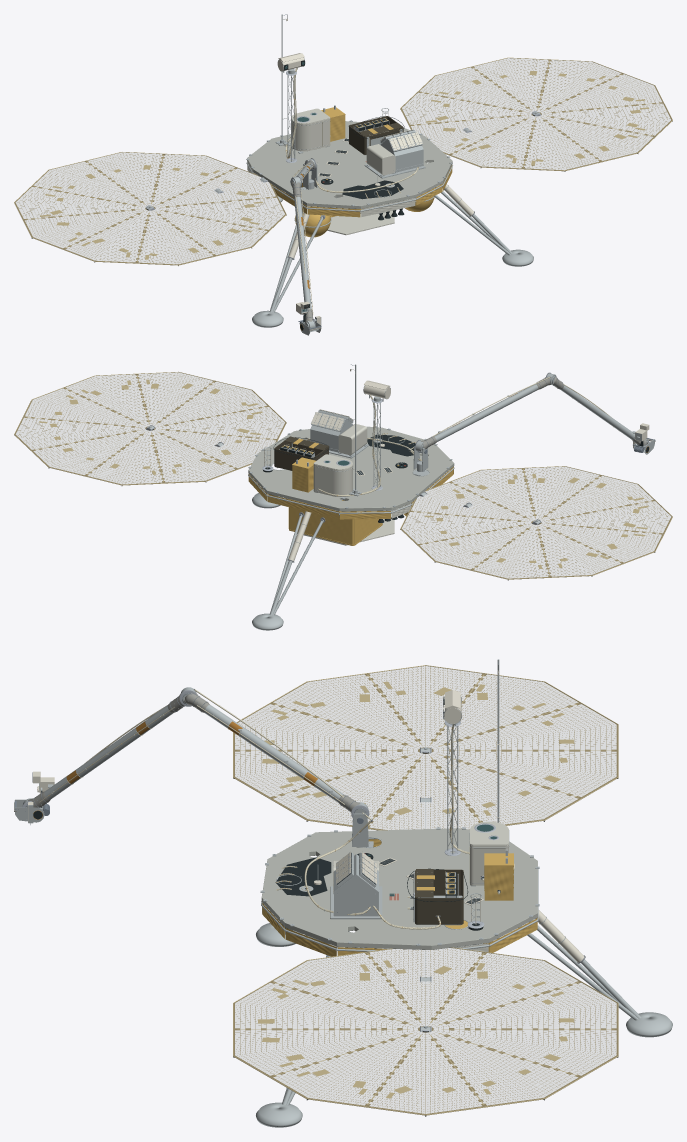
The model's file is phoenix-exterior.glb.
3 views of the same model, one above another, from view 1: azimuth 30°, elevation 25°; view 2: azimuth 150°, elevation 25°; view 3: azimuth 270°, elevation 25° (orthographic). The views are drawn at different scales.
Parts seen in each view (by area): view 1: PHOENIX_SOLAR_LEFT_EXTERIOR_Phoenix_UltraFlex_photovoltaic_c, PHOENIX_SOLAR_EXTERIOR_Phoenix_UltraFlex_photovoltaic_cells, PHOENIX_DECK_Phoenix_satin_deck_aluminium, PHOENIX_SOLAR_LEFT_EXTERIOR_Phoenix_UltraFlex_Vectran_fabric, PHOENIX_SOLAR_EXTERIOR_Phoenix_UltraFlex_Vectran_fabric, PHOENIX_SOLAR_LEFT_EXTERIOR_Phoenix_UltraFlex_pale_edge_bind, PHOENIX_SOLAR_EXTERIOR_Phoenix_UltraFlex_pale_edge_binding, PHOENIX_LEGS_EXTERIOR_Phoenix_machined_aluminium (×2), PHOENIX_ARM_EXTERIOR_Phoenix_machined_aluminium (×2), PHOENIX_MET_EXTERIOR_Phoenix_silver_multilayer_thermal_blank, PHOENIX_DECK_Phoenix_machined_aluminium, PHOENIX_TEGA_EXTERIOR_Phoenix_machined_aluminium (+8 smaller); view 2: PHOENIX_SOLAR_LEFT_EXTERIOR_Phoenix_UltraFlex_photovoltaic_c, PHOENIX_SOLAR_EXTERIOR_Phoenix_UltraFlex_photovoltaic_cells, PHOENIX_DECK_Phoenix_satin_deck_aluminium, PHOENIX_SOLAR_EXTERIOR_Phoenix_UltraFlex_Vectran_fabric, PHOENIX_SOLAR_LEFT_EXTERIOR_Phoenix_UltraFlex_Vectran_fabric, PHOENIX_SOLAR_LEFT_EXTERIOR_Phoenix_UltraFlex_pale_edge_bind, PHOENIX_AVIONICS_EXTERIOR_Phoenix_gold_multilayer_thermal_bl, PHOENIX_SOLAR_EXTERIOR_Phoenix_UltraFlex_pale_edge_binding, PHOENIX_ARM_EXTERIOR_Phoenix_machined_aluminium (×2), PHOENIX_LEGS_EXTERIOR_Phoenix_machined_aluminium (×2), PHOENIX_MET_EXTERIOR_Phoenix_silver_multilayer_thermal_blank, PHOENIX_DECK_Phoenix_machined_aluminium (+7 smaller); view 3: PHOENIX_SOLAR_EXTERIOR_Phoenix_UltraFlex_photovoltaic_cells, PHOENIX_SOLAR_LEFT_EXTERIOR_Phoenix_UltraFlex_photovoltaic_c, PHOENIX_DECK_Phoenix_satin_deck_aluminium, PHOENIX_SOLAR_EXTERIOR_Phoenix_UltraFlex_Vectran_fabric, PHOENIX_SOLAR_LEFT_EXTERIOR_Phoenix_UltraFlex_Vectran_fabric, PHOENIX_SOLAR_EXTERIOR_Phoenix_UltraFlex_pale_edge_binding, PHOENIX_SOLAR_LEFT_EXTERIOR_Phoenix_UltraFlex_pale_edge_bind, PHOENIX_LEGS_EXTERIOR_Phoenix_machined_aluminium (×2), PHOENIX_ARM_EXTERIOR_Phoenix_machined_aluminium (×2), PHOENIX_TEGA_EXTERIOR_Phoenix_machined_aluminium, PHOENIX_DECK_Phoenix_machined_aluminium, PHOENIX_MECA_EXTERIOR_Phoenix_MECA_anodized_housing (+6 smaller).
Boxes of the visible parts, x1,y1,x2,y2 form: PHOENIX_SOLAR_LEFT_EXTERIOR_Phoenix_UltraFlex_photovoltaic_c: (15,152,284,264); PHOENIX_SOLAR_EXTERIOR_Phoenix_UltraFlex_photovoltaic_cells: (402,58,670,170); PHOENIX_DECK_Phoenix_satin_deck_aluminium: (247,121,452,208); PHOENIX_SOLAR_LEFT_EXTERIOR_Phoenix_UltraFlex_Vectran_fabric: (14,153,285,264); PHOENIX_SOLAR_EXTERIOR_Phoenix_UltraFlex_Vectran_fabric: (401,59,672,170); PHOENIX_SOLAR_LEFT_EXTERIOR_Phoenix_UltraFlex_pale_edge_bind: (14,152,286,265); PHOENIX_SOLAR_EXTERIOR_Phoenix_UltraFlex_pale_edge_binding: (400,57,672,171); PHOENIX_LEGS_EXTERIOR_Phoenix_machined_aluminium (×2): (252,185,533,327); PHOENIX_ARM_EXTERIOR_Phoenix_machined_aluminium (×2): (290,159,321,335); PHOENIX_MET_EXTERIOR_Phoenix_silver_multilayer_thermal_blank: (291,108,330,151); PHOENIX_DECK_Phoenix_machined_aluminium: (146,74,538,213); PHOENIX_TEGA_EXTERIOR_Phoenix_machined_aluminium: (364,130,425,178); PHOENIX_SOLAR_LEFT_EXTERIOR_Phoenix_UltraFlex_photovoltaic_c: (402,466,671,578); PHOENIX_SOLAR_EXTERIOR_Phoenix_UltraFlex_photovoltaic_cells: (15,372,284,484); PHOENIX_DECK_Phoenix_satin_deck_aluminium: (248,426,454,511); PHOENIX_SOLAR_EXTERIOR_Phoenix_UltraFlex_Vectran_fabric: (14,373,285,484); PHOENIX_SOLAR_LEFT_EXTERIOR_Phoenix_UltraFlex_Vectran_fabric: (401,467,671,579); PHOENIX_SOLAR_LEFT_EXTERIOR_Phoenix_UltraFlex_pale_edge_bind: (400,466,672,579); PHOENIX_AVIONICS_EXTERIOR_Phoenix_gold_multilayer_thermal_bl: (288,457,382,545); PHOENIX_SOLAR_EXTERIOR_Phoenix_UltraFlex_pale_edge_binding: (14,371,286,485); PHOENIX_ARM_EXTERIOR_Phoenix_machined_aluminium (×2): (413,373,654,475); PHOENIX_LEGS_EXTERIOR_Phoenix_machined_aluminium (×2): (252,493,323,630); PHOENIX_MET_EXTERIOR_Phoenix_silver_multilayer_thermal_blank: (313,454,352,496); PHOENIX_DECK_Phoenix_machined_aluminium: (148,401,540,523); PHOENIX_SOLAR_EXTERIOR_Phoenix_UltraFlex_photovoltaic_cells: (235,948,616,1113); PHOENIX_SOLAR_LEFT_EXTERIOR_Phoenix_UltraFlex_photovoltaic_c: (235,666,616,830); PHOENIX_DECK_Phoenix_satin_deck_aluminium: (261,828,537,949); PHOENIX_SOLAR_EXTERIOR_Phoenix_UltraFlex_Vectran_fabric: (233,948,617,1114); PHOENIX_SOLAR_LEFT_EXTERIOR_Phoenix_UltraFlex_Vectran_fabric: (233,666,617,830); PHOENIX_SOLAR_EXTERIOR_Phoenix_UltraFlex_pale_edge_binding: (233,947,618,1115); PHOENIX_SOLAR_LEFT_EXTERIOR_Phoenix_UltraFlex_pale_edge_bind: (233,665,618,830); PHOENIX_LEGS_EXTERIOR_Phoenix_machined_aluminium (×2): (256,917,672,1127); PHOENIX_ARM_EXTERIOR_Phoenix_machined_aluminium (×2): (15,687,373,847); PHOENIX_TEGA_EXTERIOR_Phoenix_machined_aluminium: (330,852,382,919); PHOENIX_DECK_Phoenix_machined_aluminium: (260,724,539,1031); PHOENIX_MECA_EXTERIOR_Phoenix_MECA_anodized_housing: (415,869,463,924).
Size of the model in its own units: 5.52 by 1.98 by 3.42.
